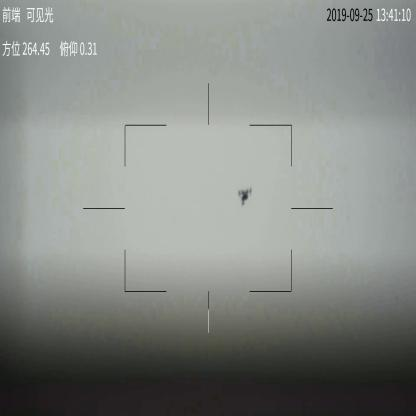uav: (236, 185, 255, 207)
